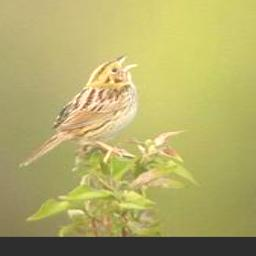Sparrow: (17, 52, 138, 169)
